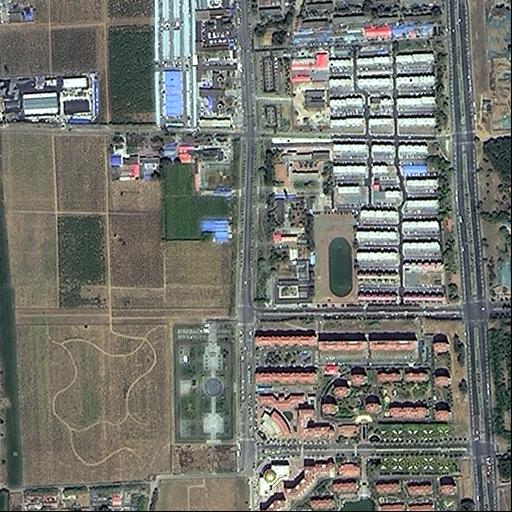school: (265, 138, 360, 308)
